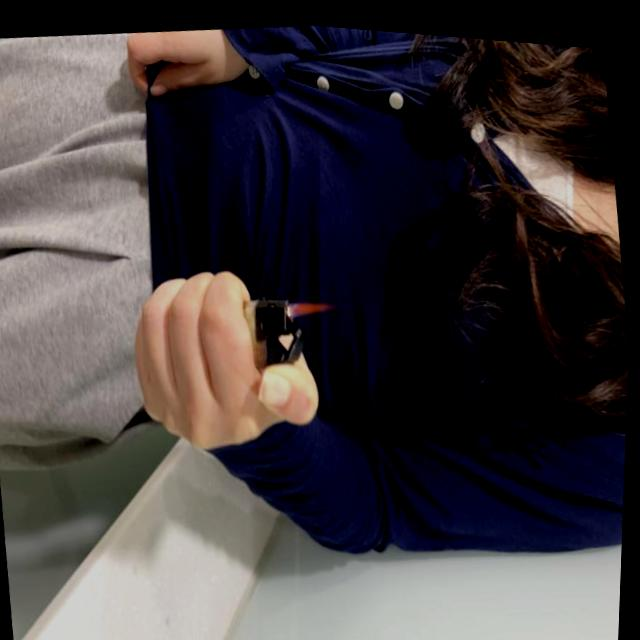Fire: (288, 285, 344, 313)
